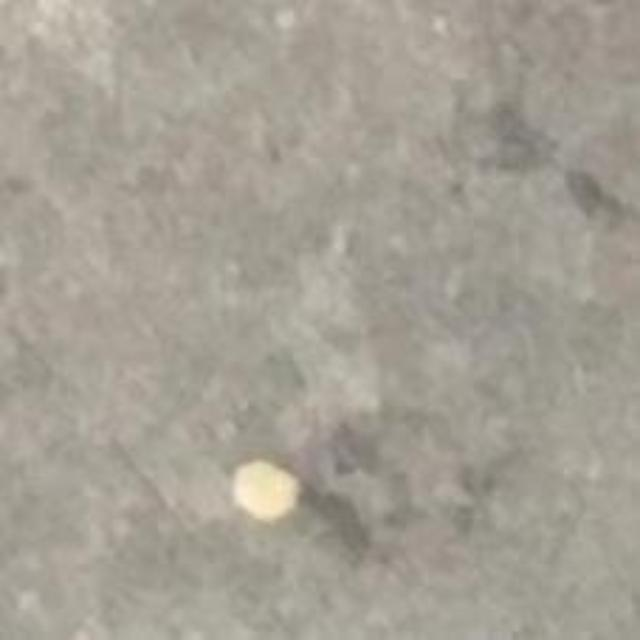peeling plaster: (232, 449, 301, 524)
